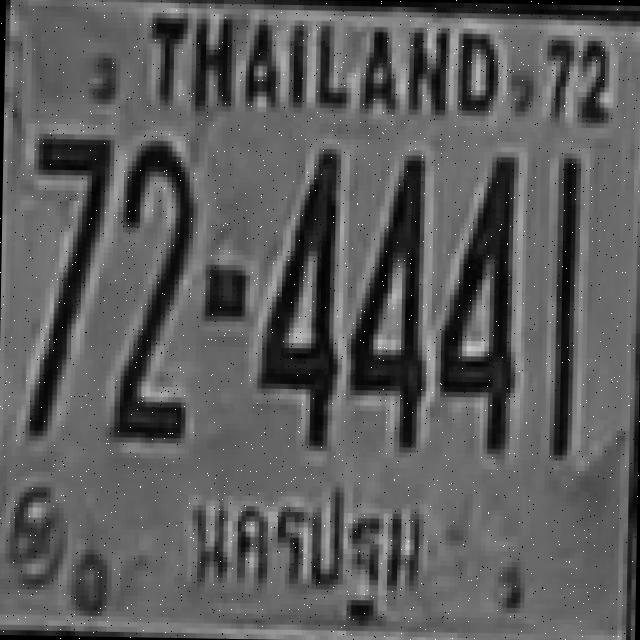2: (107, 219, 186, 435)
4: (254, 142, 338, 436), (344, 146, 426, 440), (434, 150, 514, 448), (254, 140, 338, 386), (346, 148, 426, 386), (434, 150, 514, 387)
7: (31, 130, 110, 322)
NakhonPathom: (178, 469, 420, 621)
